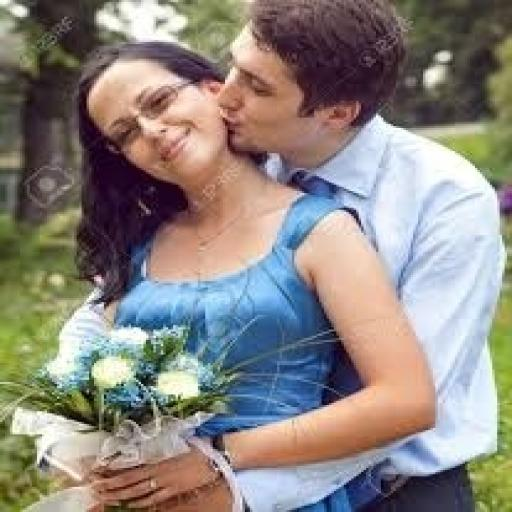hugging: (0, 0, 507, 510)
